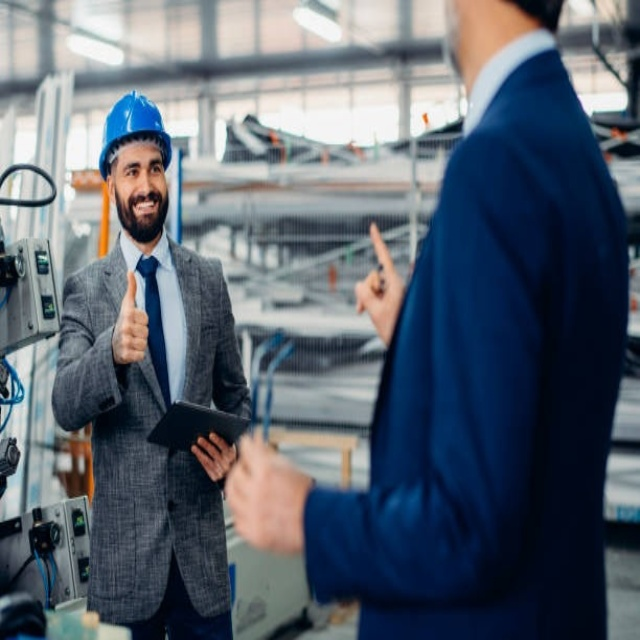Sin_gafas: (119, 155, 164, 184)
Sin_guantes: (221, 430, 309, 555), (353, 221, 407, 348), (112, 269, 150, 366), (191, 432, 237, 490)
Sin_mascara: (128, 185, 160, 231)
